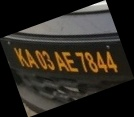character: (61, 51, 78, 72), (13, 46, 29, 67), (24, 47, 39, 68), (53, 50, 68, 71), (83, 51, 98, 72), (95, 50, 108, 72), (105, 50, 118, 72), (41, 50, 55, 70), (74, 51, 87, 72), (34, 49, 47, 69)
